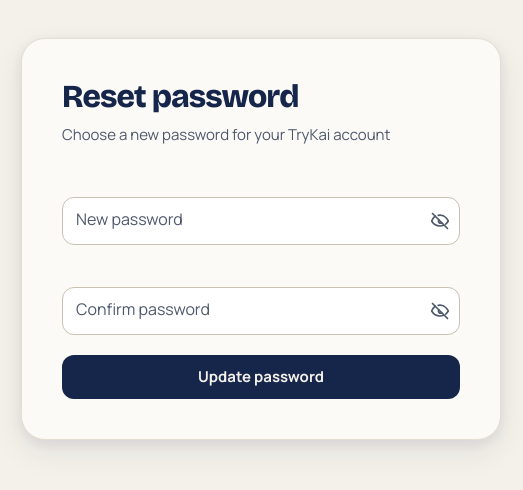
Test: Reset password › blocks submit when the passwords do not match
This screenshot has width=523, height=490.
Type "hunter22" into the password field labelled "New password" at (261, 221), box [62, 197, 460, 245]
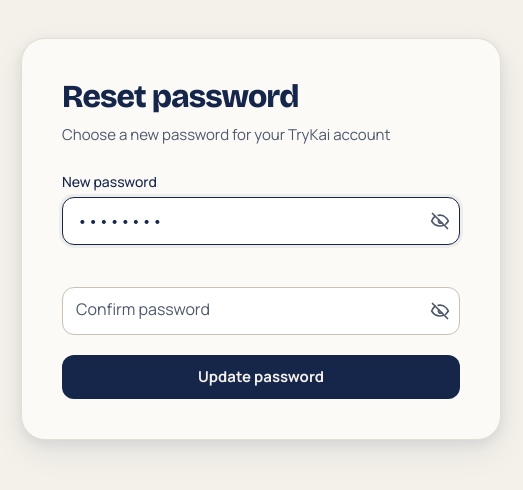
Type "different" into the password field labelled "Confirm password" at (261, 311), box [62, 287, 460, 335]
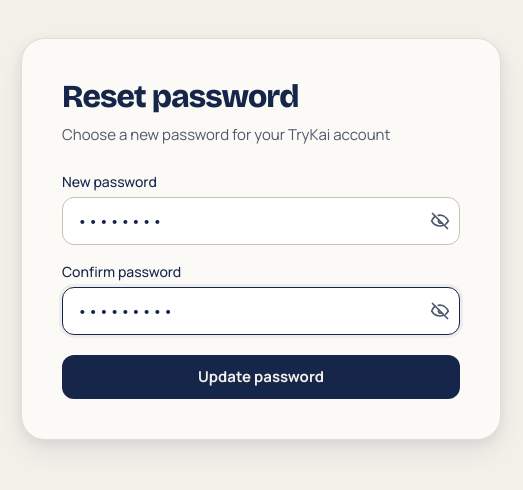
Click the button "Update password" at (261, 377), box [62, 355, 460, 399]
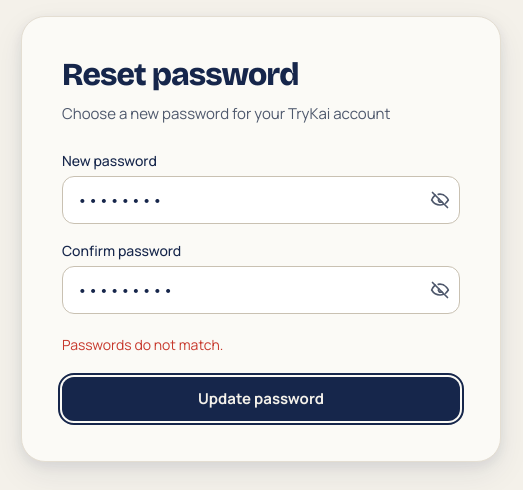
Expected: the text "Passwords do not match." is shown, [62, 335, 223, 354]
